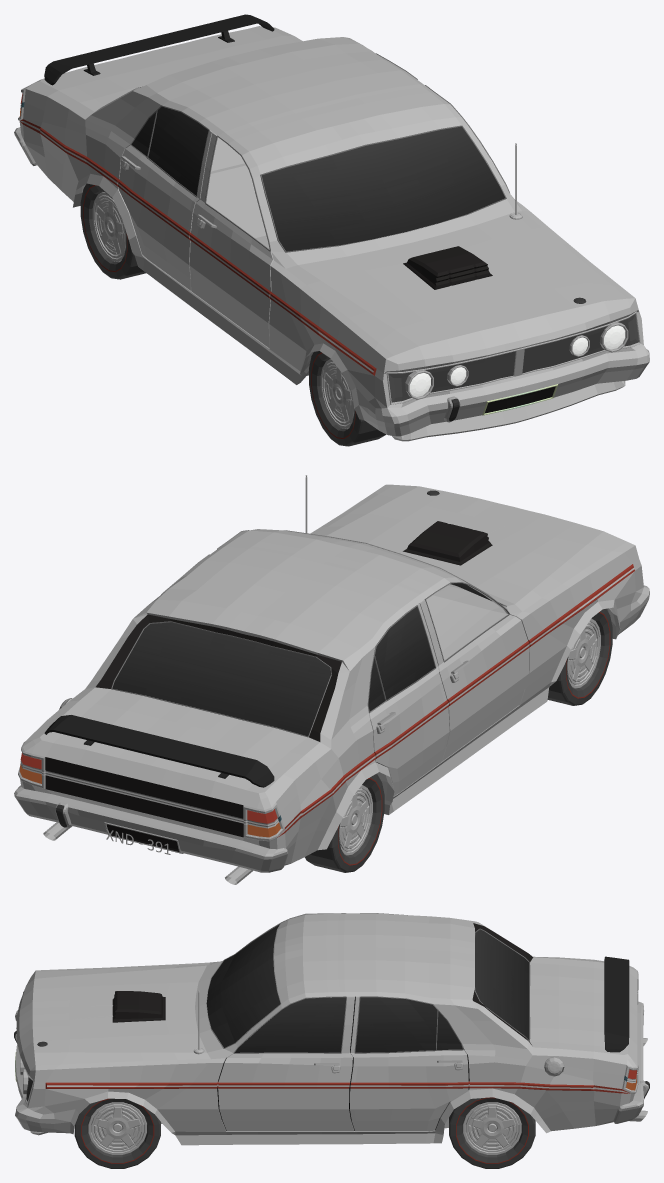
Rendered from bus3.glb.
3 renders of one model, top to bottom at view 1: azimuth 30°, elevation 25°; view 2: azimuth 150°, elevation 25°; view 3: azimuth 270°, elevation 25°, orthographic. The views are drawn at different scales.
Visible parts, largest first — view 1: Cube.018, Circle.048, Circle.049, Cube.015, Cube.017, Circle.045; view 2: Cube.018, Cube.015, Circle.049, Circle.048, Cube.017; view 3: Cube.018, Circle.044, Circle.043, Cube.015, Cube.017.
Part boxes in pixels (x1,y1,x2,y2): Cube.018: [14, 26, 649, 441]; Circle.048: [309, 351, 385, 446]; Circle.049: [80, 183, 146, 279]; Cube.015: [44, 14, 274, 85]; Cube.017: [130, 53, 509, 252]; Circle.045: [405, 322, 628, 399]; Cube.018: [14, 484, 649, 872]; Cube.015: [44, 715, 274, 787]; Circle.049: [304, 773, 384, 872]; Circle.048: [547, 609, 612, 705]; Cube.017: [111, 530, 509, 737]; Cube.018: [15, 913, 644, 1145]; Circle.044: [449, 1097, 535, 1168]; Circle.043: [74, 1098, 160, 1168]; Cube.015: [604, 956, 629, 1052]; Cube.017: [206, 913, 530, 1053].
Size of the model in its own units: 1.92 by 1.4 by 4.73.
7 materials, 5 textured.
